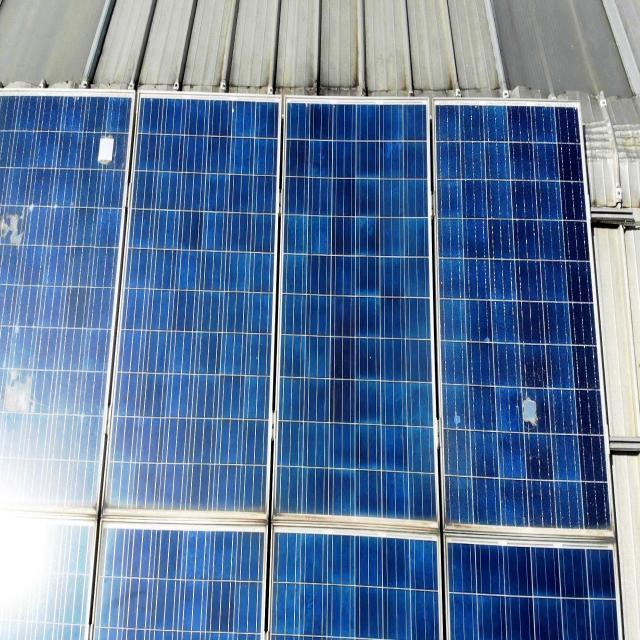faulty: (432, 102, 614, 538), (0, 94, 135, 463)
no faulty: (107, 93, 280, 529), (273, 96, 444, 536)
